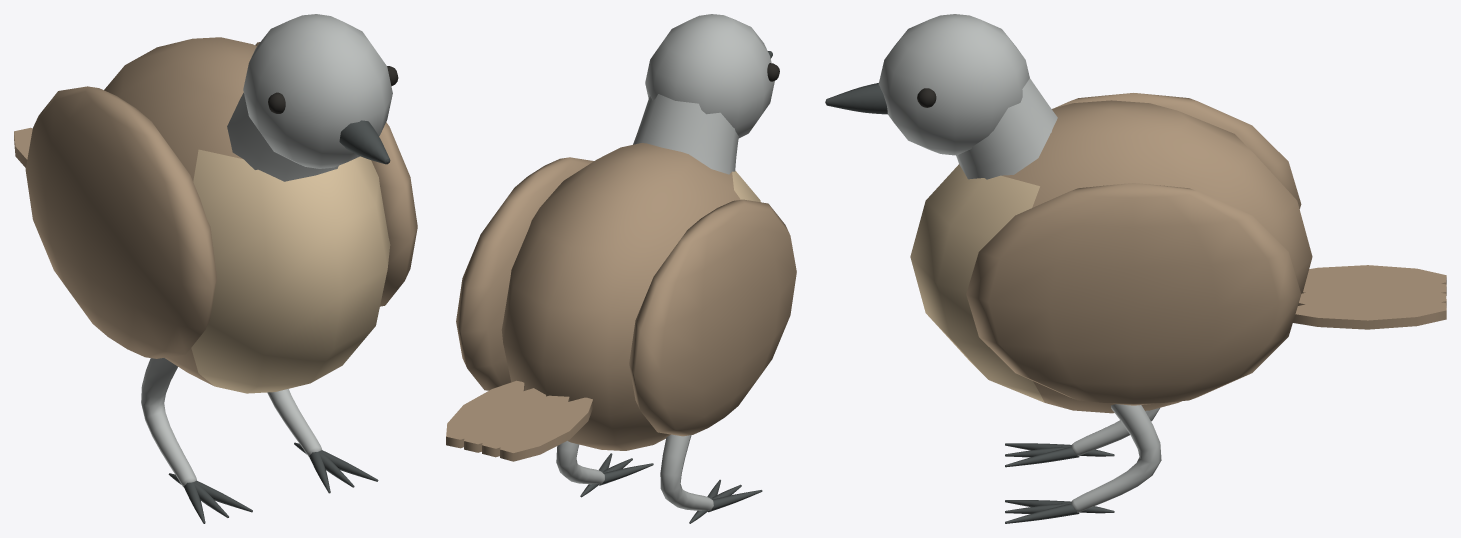
Rendered from birds-and-flying-creatures-house-sparrow-db38eddb__20618.glb.
3 renders of one model, left to right at view 1: azimuth 30°, elevation 25°; view 2: azimuth 150°, elevation 25°; view 3: azimuth 270°, elevation 25°, orthographic. The views are drawn at different scales.
Parts seen in each view (by area): view 1: house-sparrow; view 2: house-sparrow; view 3: house-sparrow.
Boxes of the visible parts, x1,y1,x2,y2 form: house-sparrow: (14,14,417,523); house-sparrow: (446,14,796,523); house-sparrow: (825,14,1446,523).
Bounding box in the file's own units: 0.0783 × 0.1378 × 0.1669.
